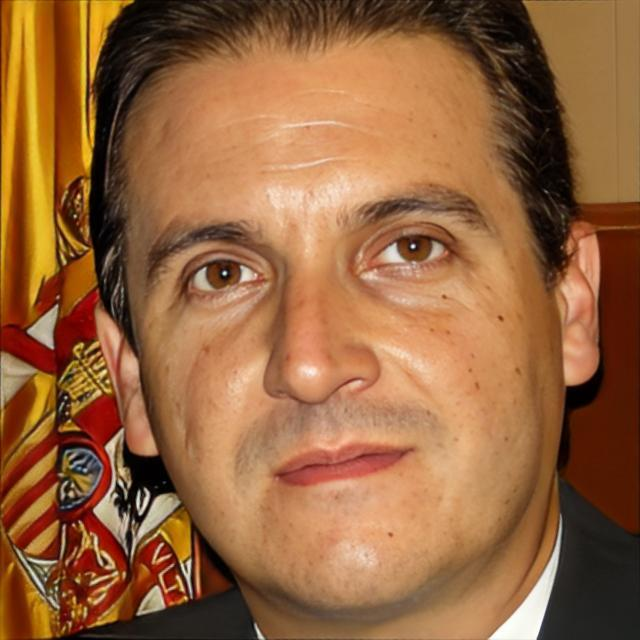content: (128, 31, 559, 612)
